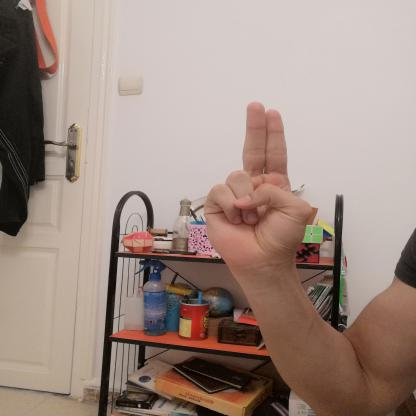TA: (187, 94, 328, 282)
